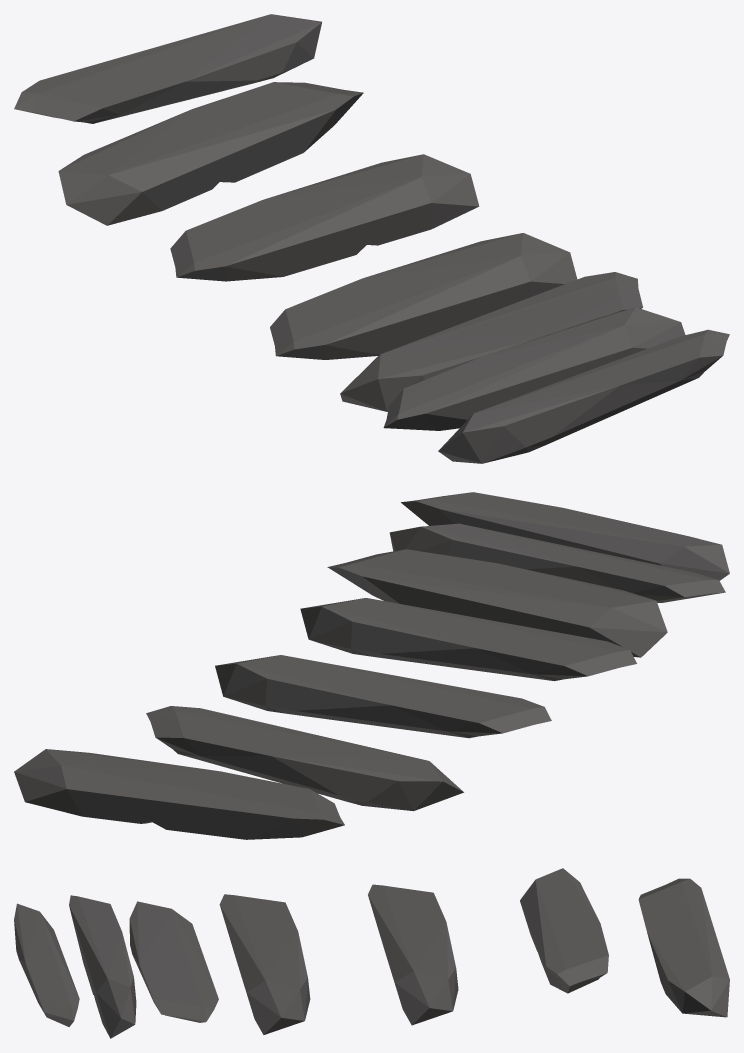
File: StoneFloor.fbx
The picture shows the model from 3 angles, top to bottom: view 1: azimuth 30°, elevation 25°; view 2: azimuth 150°, elevation 25°; view 3: azimuth 270°, elevation 25°; orthographic projection. The views are drawn at different scales.
Parts seen in each view (by area): view 1: stone_f__26_; view 2: stone_f__26_; view 3: stone_f__26_.
Boxes of the visible parts, x1,y1,x2,y2 form: stone_f__26_: [14, 14, 729, 463]; stone_f__26_: [14, 492, 729, 839]; stone_f__26_: [14, 868, 729, 1038].
Bounding box in the file's own units: 278 × 55.41 × 603.
